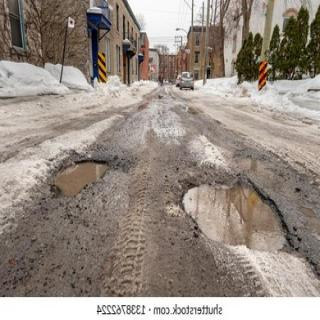pothole: (179, 176, 300, 252), (54, 162, 109, 198)
